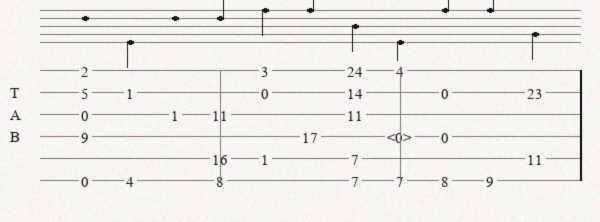0: (81, 107, 93, 121), (81, 173, 93, 187), (261, 85, 273, 99), (441, 85, 453, 99), (441, 129, 453, 143)
1: (126, 85, 138, 99), (171, 107, 183, 121), (261, 151, 273, 165)
11: (212, 107, 232, 121), (347, 107, 367, 121), (527, 151, 547, 165)
14: (347, 85, 367, 99)
16: (212, 151, 232, 165)
17: (302, 129, 322, 143)
2: (81, 63, 93, 77)
23: (527, 85, 547, 99)
24: (347, 63, 367, 77)
3: (261, 63, 273, 77)
4: (126, 173, 138, 187), (396, 63, 408, 77)
5: (81, 85, 93, 99)
7: (351, 173, 363, 187), (351, 151, 363, 165), (396, 173, 408, 187)
8: (216, 173, 228, 187), (441, 173, 453, 187)
9: (81, 129, 93, 143), (486, 173, 498, 187)
harmonic: (387, 129, 416, 143)
